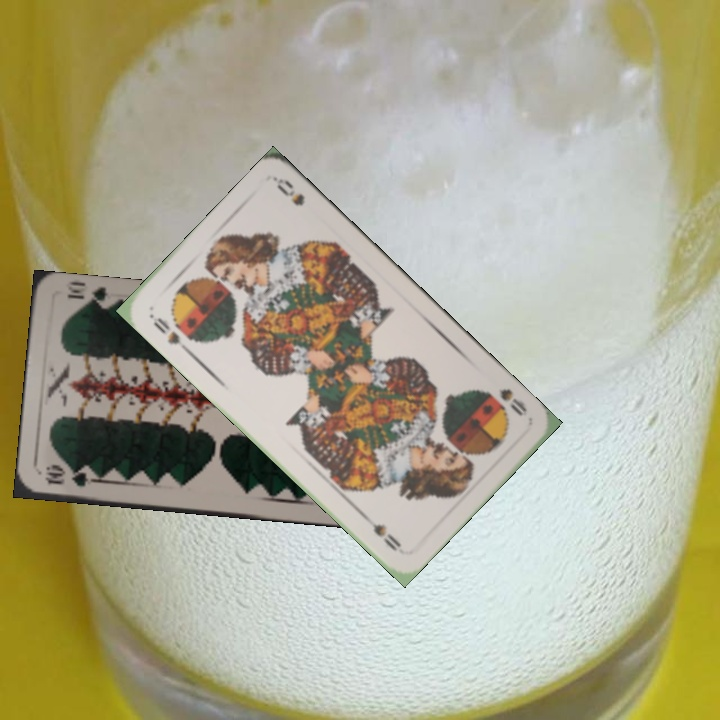G10: (41, 464, 99, 489)
SO: (149, 313, 193, 356), (495, 384, 530, 419)
